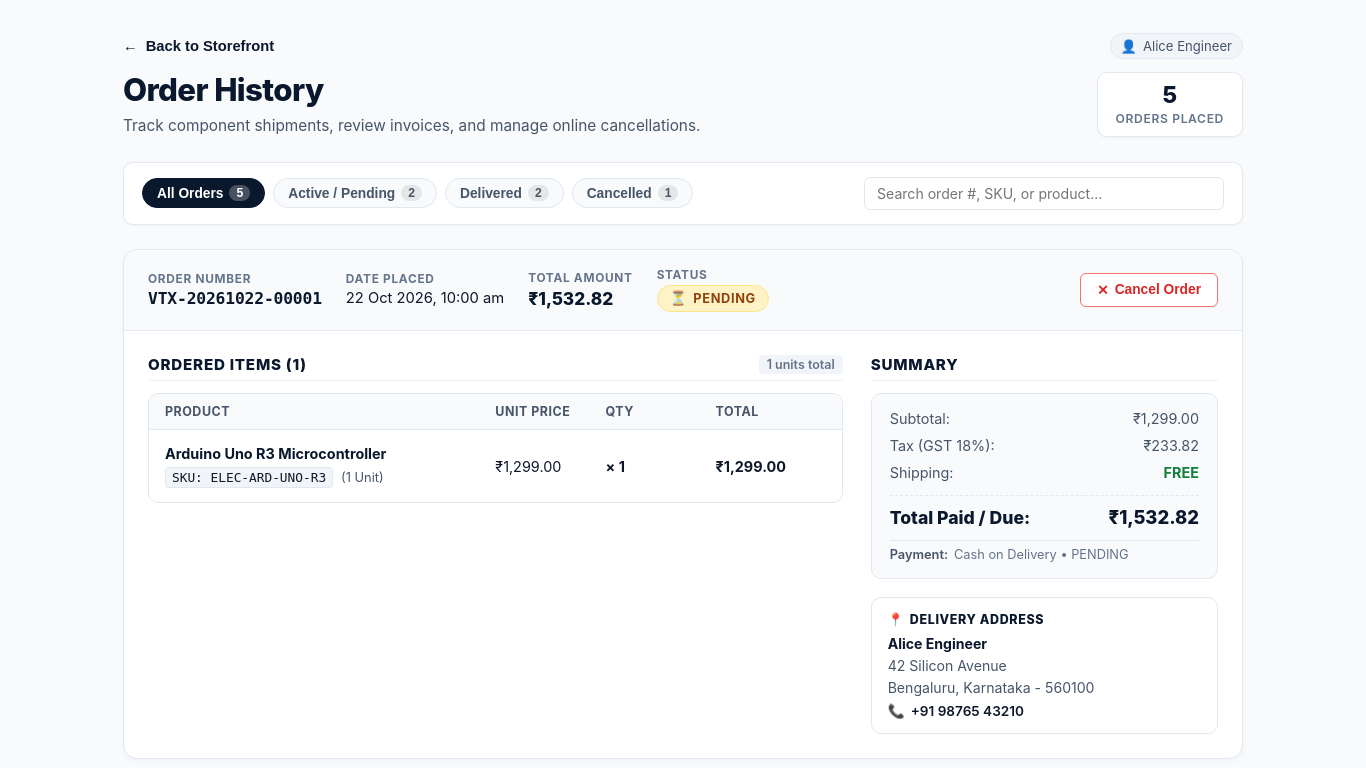
Scenario: OrdersPage Component › 6. Requires confirmation modal before cancellation and handles user dismissal
# Click cancel button
Click the button with test id "cancel-order-btn-VTX-20261022-00001".
click(1149, 290)  # box [1080,273,1218,307]
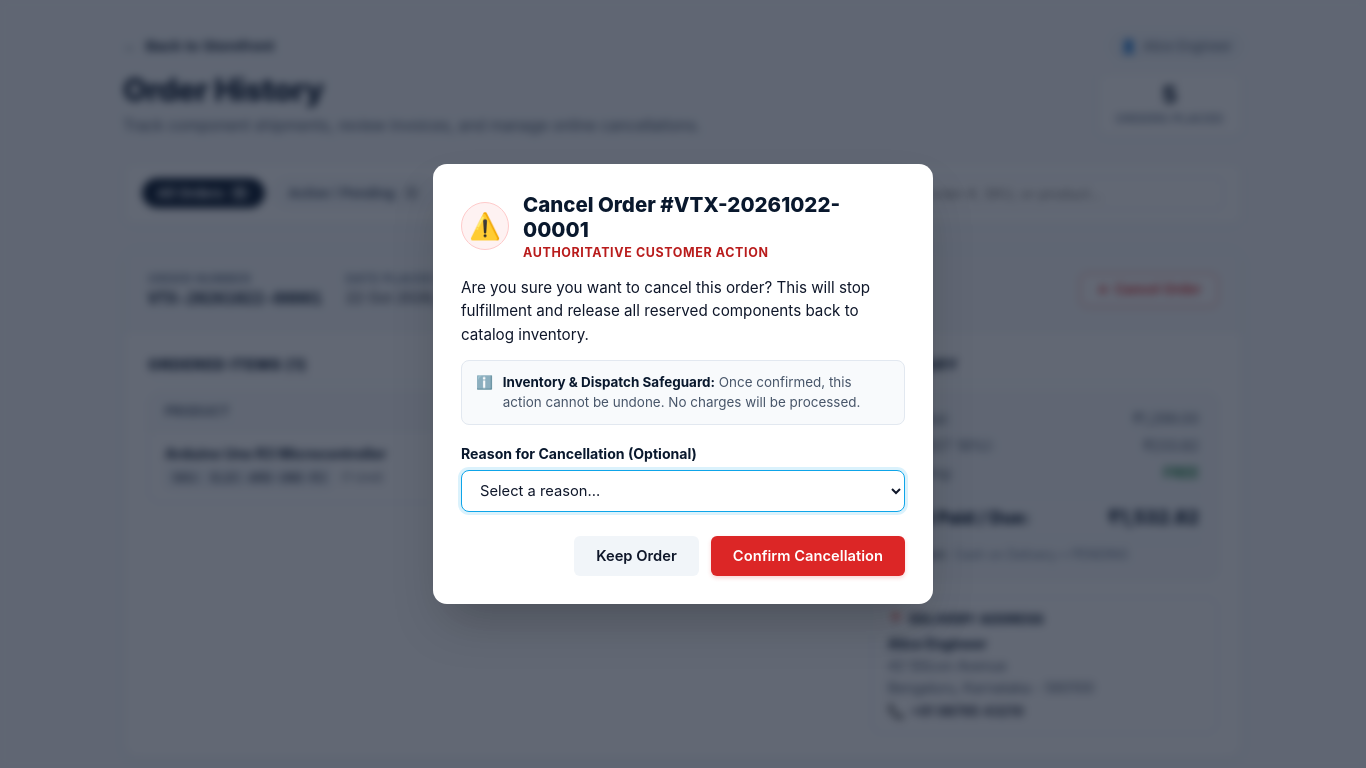
Check: the dialog with test id "cancel-confirm-modal" is shown
Check: the heading "Cancel Order #VTX-20261022-00001" is shown, box [523,192,840,242]
# Click "Keep Order" to dismiss
Click the button with test id "cancel-dismiss-btn".
click(636, 556)  # box [574,536,699,576]
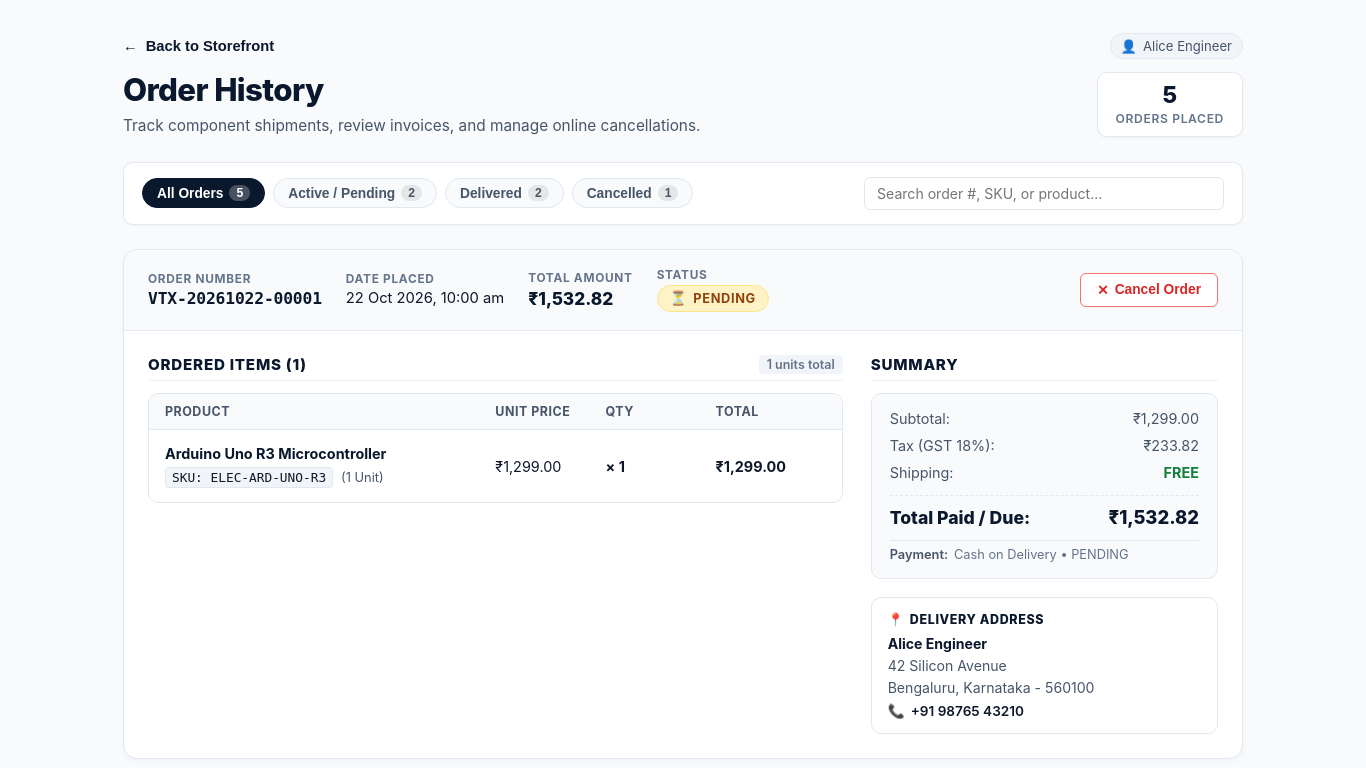
Check: the dialog with test id "cancel-confirm-modal" is gone
